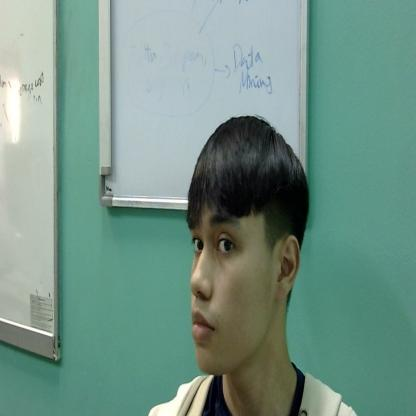Open-Eyes: (184, 206, 240, 266)
